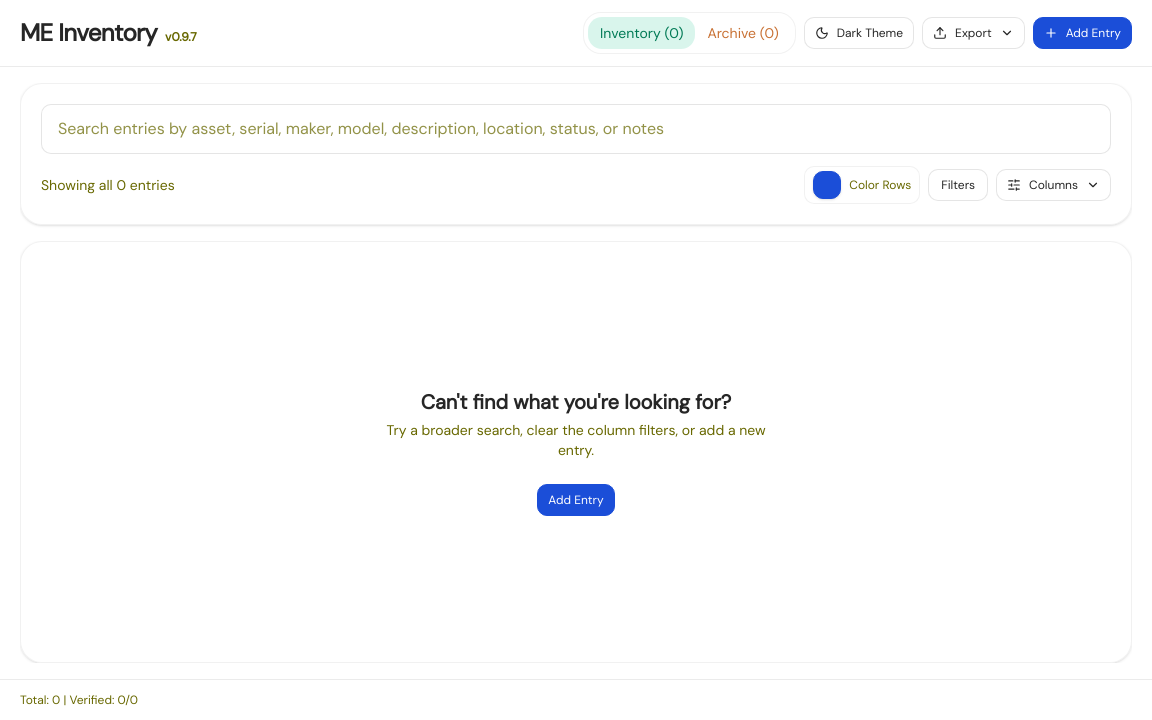
Test: InventoryShell shell › runs desktop Excel export when available
Click the button "Export": click(973, 33) top-left (922, 17), bottom-right (1025, 49)
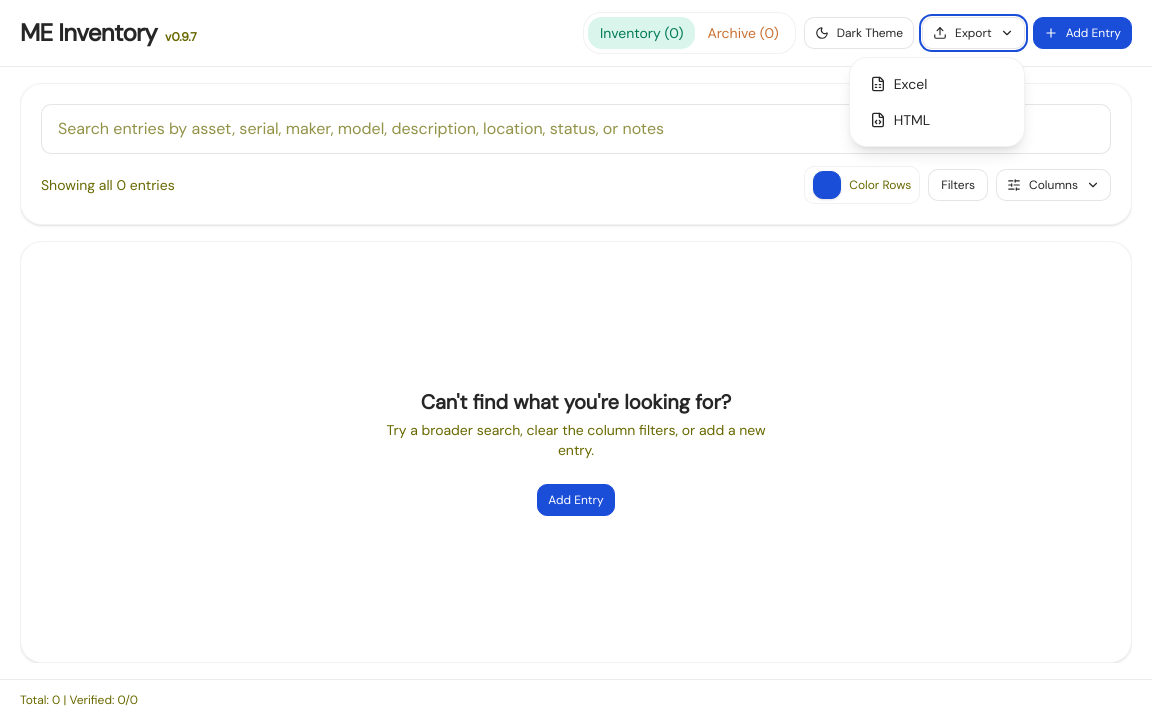
Click the menu item "Excel": click(937, 84) top-left (858, 66), bottom-right (1016, 102)
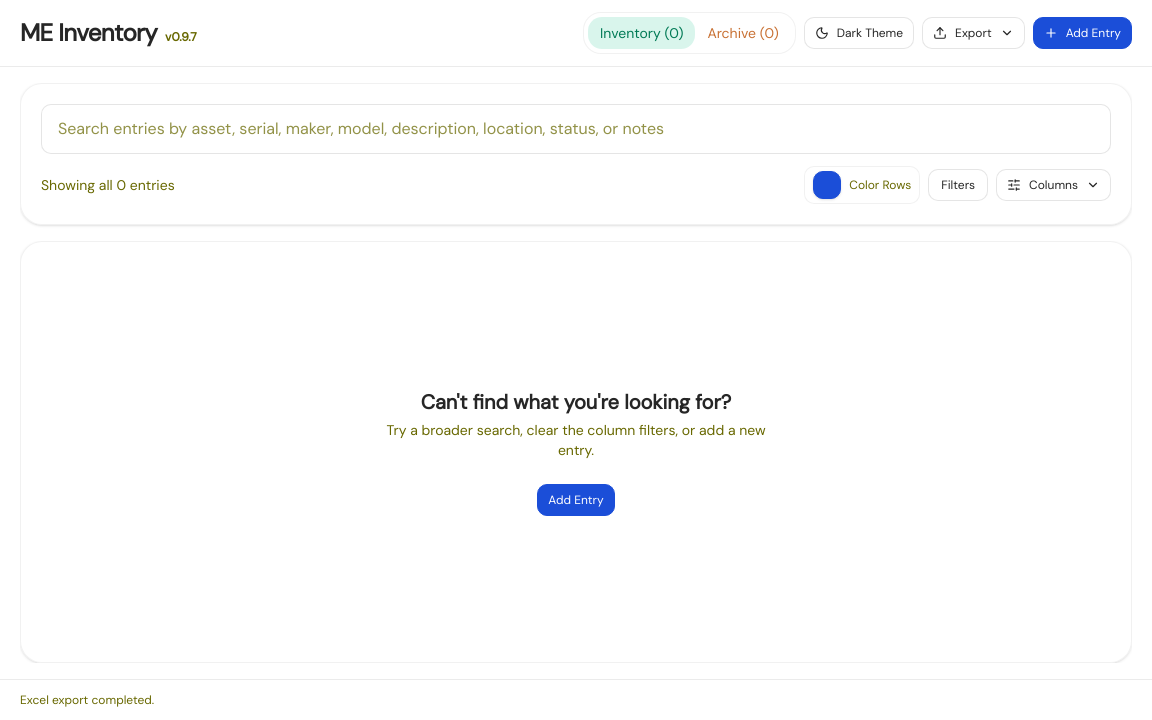
Now the text "Excel export completed." is shown, box top-left (0, 679), bottom-right (1151, 719)
